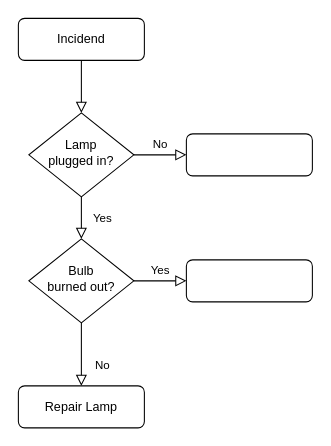
This 331x446 diagram has some shape labels left out. The shapes that lost their labels are listed below. From the top down, each one's centre as x and y in pixels, then its label:
At point (248, 154): "Plug in lamp".
At point (248, 280): "Replace Bulb".
